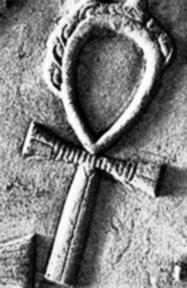Ankh: (17, 8, 170, 287)
